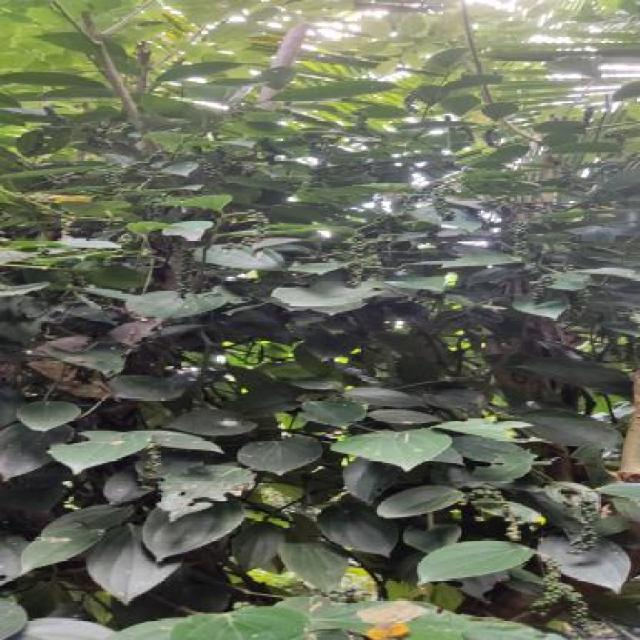UNRIPE: (528, 554, 602, 637), (462, 489, 522, 540), (554, 165, 609, 209), (340, 236, 383, 287), (98, 232, 154, 268), (194, 146, 234, 188), (571, 497, 602, 549), (500, 220, 538, 257), (302, 137, 340, 172), (242, 209, 269, 246), (174, 251, 194, 297), (139, 442, 162, 480), (349, 111, 380, 138), (400, 93, 431, 116), (428, 195, 455, 220), (134, 195, 161, 220), (103, 171, 126, 197), (531, 279, 551, 302), (577, 292, 591, 317)
